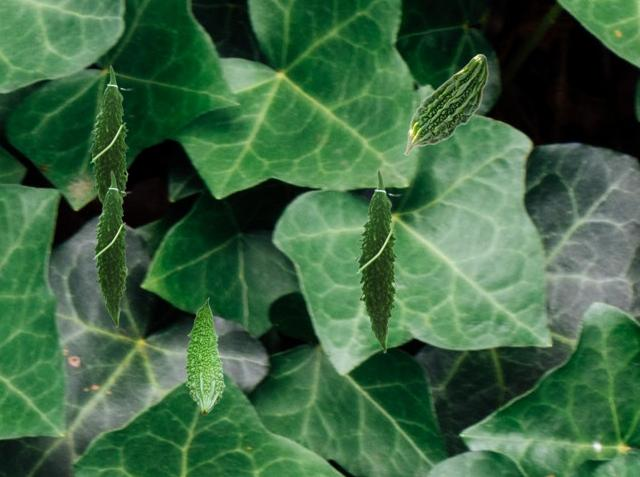ampalaya: (354, 168, 403, 353), (403, 53, 489, 156), (91, 169, 133, 328), (88, 64, 134, 204), (183, 297, 226, 415)
